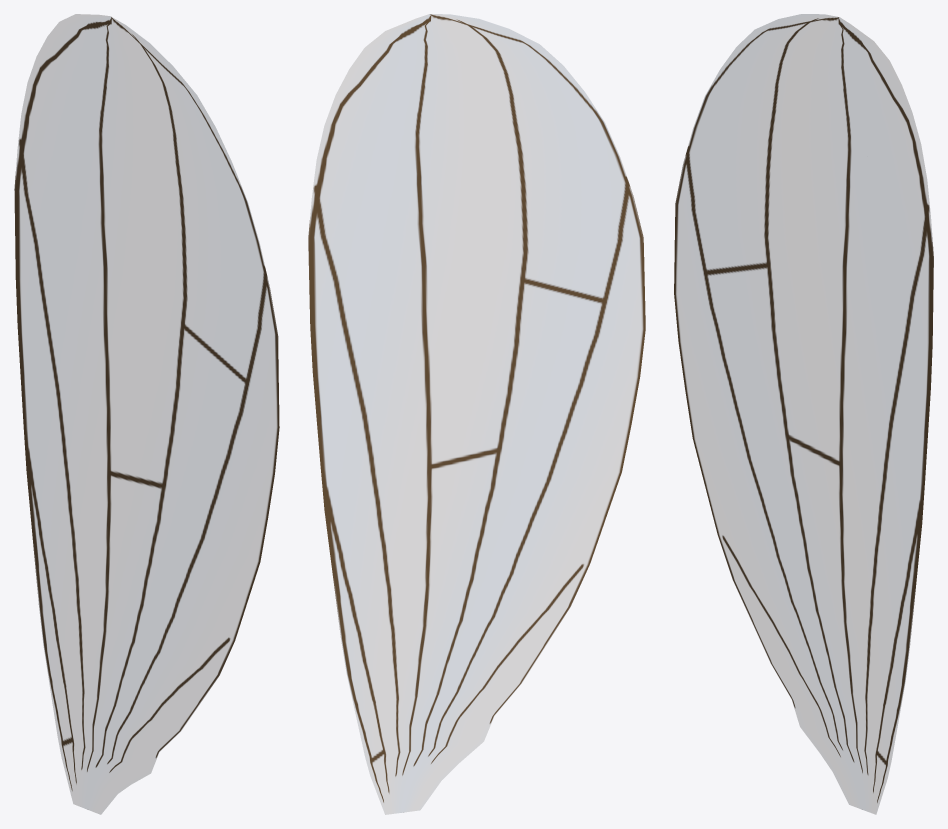
The model's file is wing_right_wing.obj.
The picture shows the model from 3 angles, left to right: view 1: azimuth 90°, elevation 25°; view 2: azimuth 150°, elevation 25°; view 3: azimuth 270°, elevation 25°; orthographic projection.
Size of the model in its own units: 0.0705 by 0.2595 by 0.0778.
Materials: 1 (1 with a texture image).
